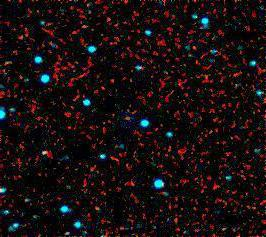star: (117, 102, 147, 132)
